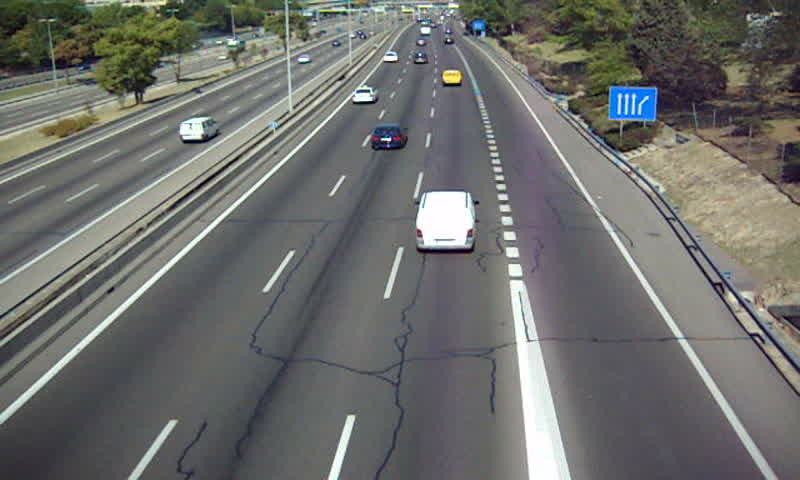car: (369, 124, 407, 150), (351, 86, 376, 104), (413, 50, 428, 66), (382, 50, 397, 62)
van: (415, 191, 477, 252), (441, 70, 464, 86)
